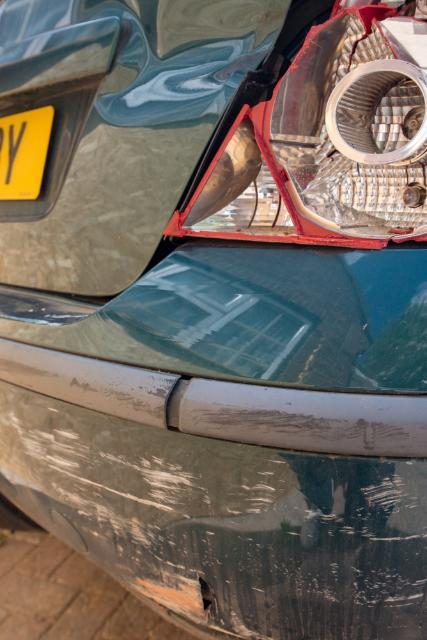crack: (199, 577, 213, 623)
dent: (98, 0, 291, 128)
lamp broken: (163, 0, 427, 248)
scratch: (0, 392, 427, 612), (0, 355, 171, 413), (188, 405, 414, 446)
